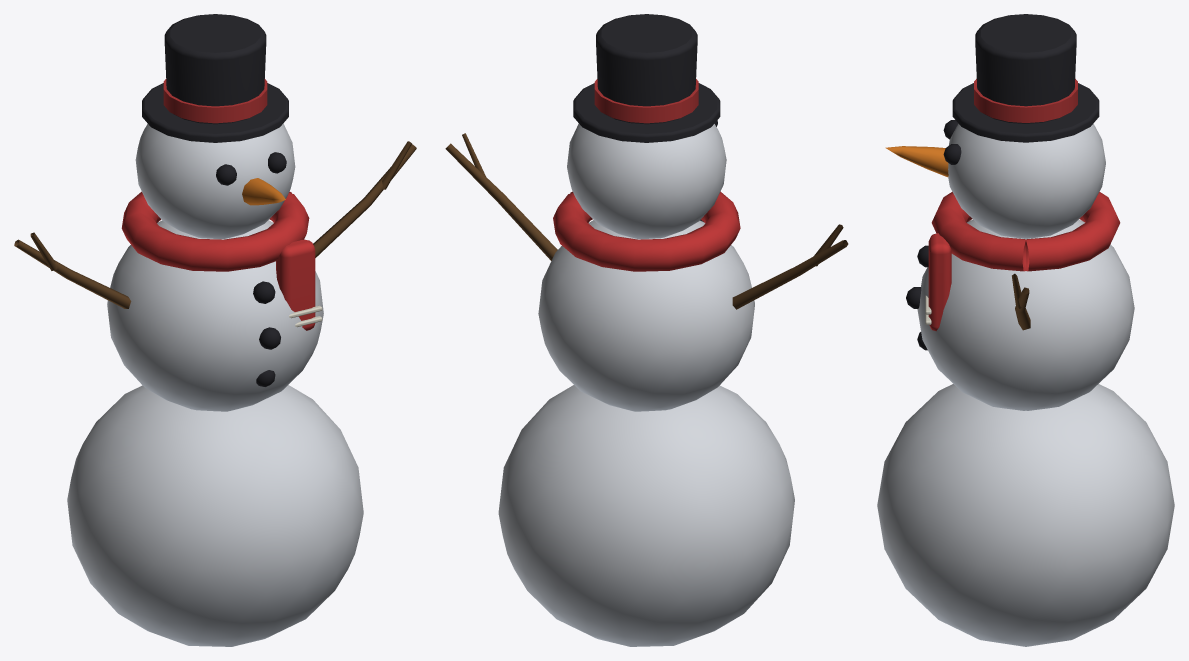
File: snowman.glb
3 views of the same model, side by side, from view 1: azimuth 30°, elevation 25°; view 2: azimuth 150°, elevation 25°; view 3: azimuth 270°, elevation 25° (orthographic).
Parts seen in each view (by area): view 1: snowman_main; view 2: snowman_main; view 3: snowman_main.
Part boxes in pixels (x1,y1,x2,y2): snowman_main: (14,14,416,646); snowman_main: (445,14,848,646); snowman_main: (877,14,1174,646).
Size of the model in its own units: 0.8083 by 1.15 by 0.52.
